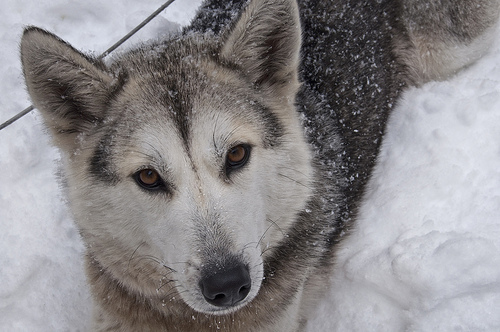dog: (18, 2, 498, 331)
